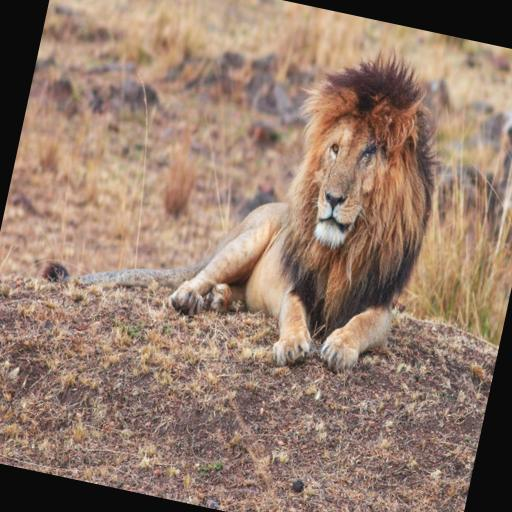lions: (154, 21, 502, 422)
